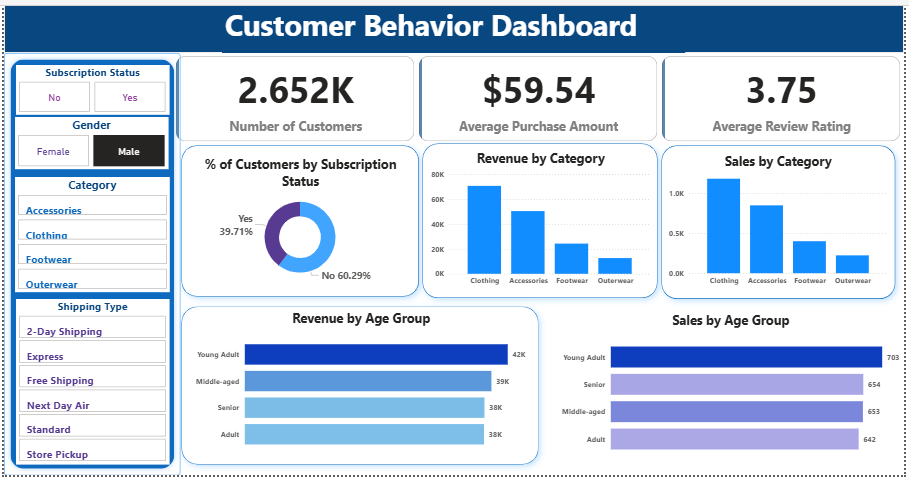

What the dashboard file says about the page in this screenshot:
{"tool":"powerbi","page":{"name":"Page 1","canvas":[1500,820],"ordinal":0},"visuals":[{"type":"cardVisual","fields":{"Data":["customer.Number of Customers","customer.Average Purchase Amount","customer.Average Review Rating"]},"box":[282,116,1218,152],"z":0},{"type":"shape","box":[0,0,1500,116],"z":1000},{"type":"textbox","box":[363,31.5,772.2,85.2],"z":2000},{"type":"shape","box":[282,256,424,280],"z":3000},{"type":"donutChart","title":"% of Customers by Subscription Status","fields":{"Category":["customer.subscription_status"],"Y":["CountNonNull(customer.customer_id)"]},"box":[308,276,370,238],"z":4000},{"type":"shape","box":[684,254,420,286],"z":5000},{"type":"shape","box":[1082,256,418,284],"z":6000},{"type":"clusteredColumnChart","title":"Revenue by Category","fields":{"Y":["Sum(customer.purchase_amount)"],"Category":["customer.category"]},"box":[706,276,376,238],"z":7000},{"type":"clusteredColumnChart","title":"Sales by Category","fields":{"Y":["CountNonNull(customer.customer_id)"],"Category":["customer.category"]},"box":[1104,282,374,232],"z":8000},{"type":"shape","box":[0,116.7,294.4,703.7],"z":9000},{"type":"advancedSlicerVisual","title":"Subscription Status","fields":{"Values":["customer.subscription_status"]},"box":[20.4,137,255.6,83.3],"z":10000},{"type":"advancedSlicerVisual","title":"Gender","fields":{"Values":["customer.gender"]},"box":[18.5,224.1,255.6,87],"z":11000},{"type":"advancedSlicerVisual","title":"Category","fields":{"Values":["customer.category"]},"box":[18.5,324.1,257.4,190.7],"z":12000},{"type":"advancedSlicerVisual","title":"Shipping Type","fields":{"Values":["customer.shipping_type"]},"box":[20.4,525.9,255.6,275.9],"z":13000},{"type":"clusteredBarChart","title":"Sales by Age Group","fields":{"Y":["CountNonNull(customer.customer_id)"],"Category":["customer.age_group"]},"box":[924.1,546.3,575.9,255.6],"z":14000},{"type":"shape","box":[281.7,525,623.3,291.7],"z":15000},{"type":"clusteredBarChart","title":"Revenue by Age Group","fields":{"Y":["Sum(customer.purchase_amount)"],"Category":["customer.age_group"]},"box":[314,544,564,250],"z":16000}]}

Visuals, with their boxes in screenshot pixels (x1, y1, x2, y2):
cardVisual - customer.Number of Customers x customer.Average Purchase Amount: 169,51,899,142
shape: 0,0,899,51
textbox: 217,0,680,51
shape: 169,134,423,302
"% of Customers by Subscription Status" donutChart: 185,146,406,289
shape: 410,133,661,305
shape: 648,134,899,305
"Revenue by Category" clusteredColumnChart: 423,146,648,289
"Sales by Category" clusteredColumnChart: 661,150,886,289
shape: 0,51,176,473
"Subscription Status" advancedSlicerVisual: 12,63,165,113
"Gender" advancedSlicerVisual: 11,115,164,167
"Category" advancedSlicerVisual: 11,175,165,290
"Shipping Type" advancedSlicerVisual: 12,296,165,461
"Sales by Age Group" clusteredBarChart: 554,308,899,462
shape: 169,296,542,470
"Revenue by Age Group" clusteredBarChart: 188,307,526,457
